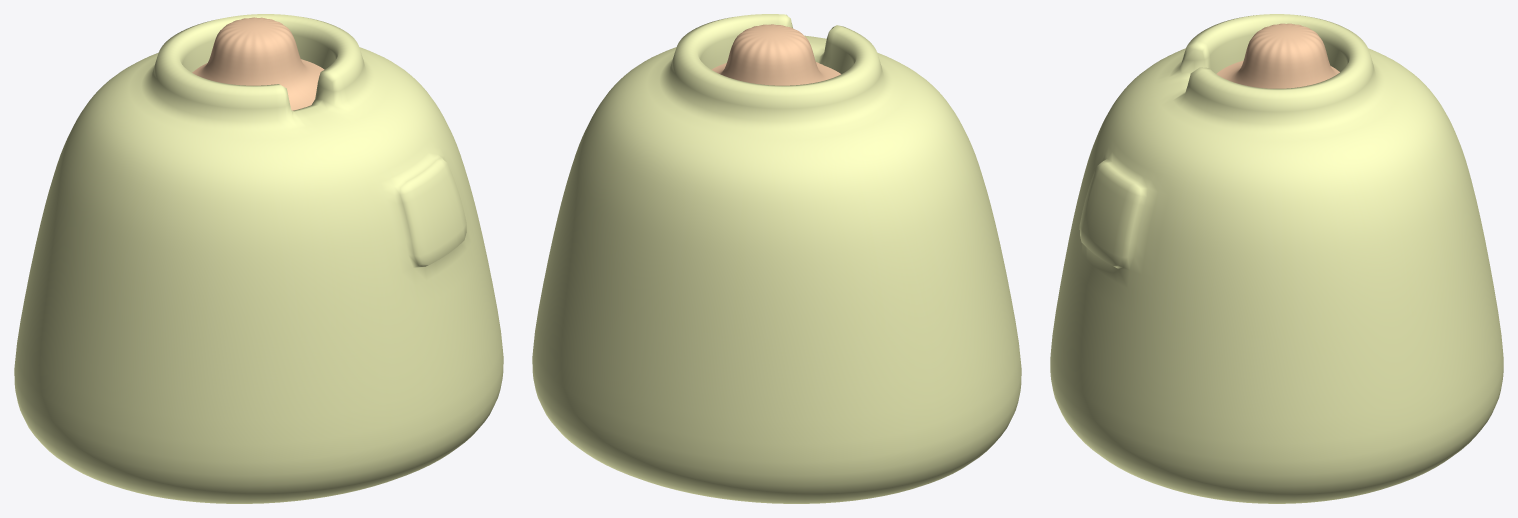
Rendered from uncle body.fbx.
The picture shows the model from 3 angles, left to right: view 1: azimuth 30°, elevation 25°; view 2: azimuth 150°, elevation 25°; view 3: azimuth 270°, elevation 25°; orthographic projection.
Visible parts, largest first — view 1: uncle_body; view 2: uncle_body; view 3: uncle_body.
Part boxes in pixels (x1=…): uncle_body: x1=14, y1=14, x2=503, y2=503; uncle_body: x1=532, y1=14, x2=1021, y2=503; uncle_body: x1=1050, y1=14, x2=1503, y2=503.
Bounding box in the file's own units: 66.35 × 58.43 × 61.67.
Materials: 2 (2 with a texture image).
